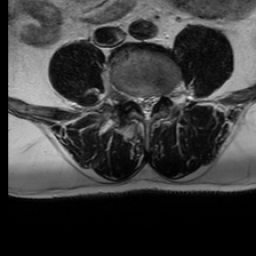CCS_normal: (143, 89, 151, 125)
LFS_severe_stenosis: (159, 86, 167, 108)
LLS_normal: (151, 89, 160, 115)
RFS_stenosis: (127, 85, 136, 109)
RLS_normal: (135, 87, 143, 115)
